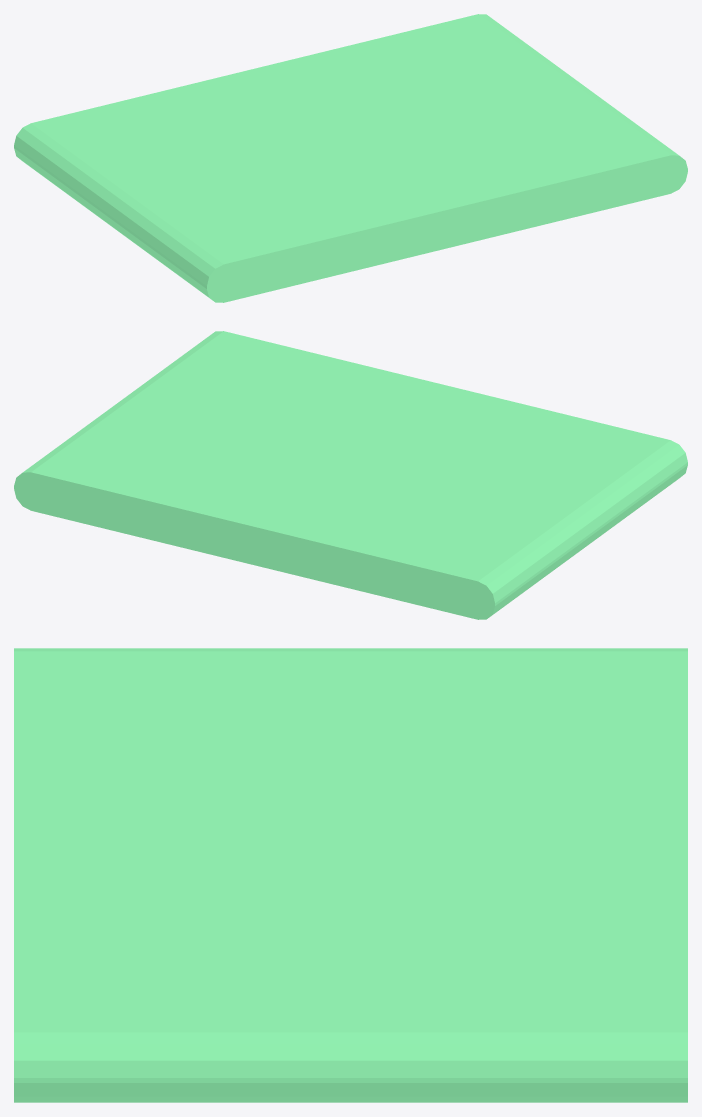
The model's file is Spring_PadHot.gltf.
The picture shows the model from 3 angles, top to bottom: view 1: azimuth 30°, elevation 25°; view 2: azimuth 150°, elevation 25°; view 3: azimuth 270°, elevation 25°; orthographic projection. The views are drawn at different scales.
Visible parts, largest first — view 1: Spring_PadHot_baked; view 2: Spring_PadHot_baked; view 3: Spring_PadHot_baked.
Part boxes in pixels (left/top/right/bottom): Spring_PadHot_baked: left=14, top=14, right=687, bottom=302; Spring_PadHot_baked: left=14, top=331, right=687, bottom=619; Spring_PadHot_baked: left=14, top=648, right=687, bottom=1102.
Size of the model in its own units: 0.72 by 0.055 by 0.5.
